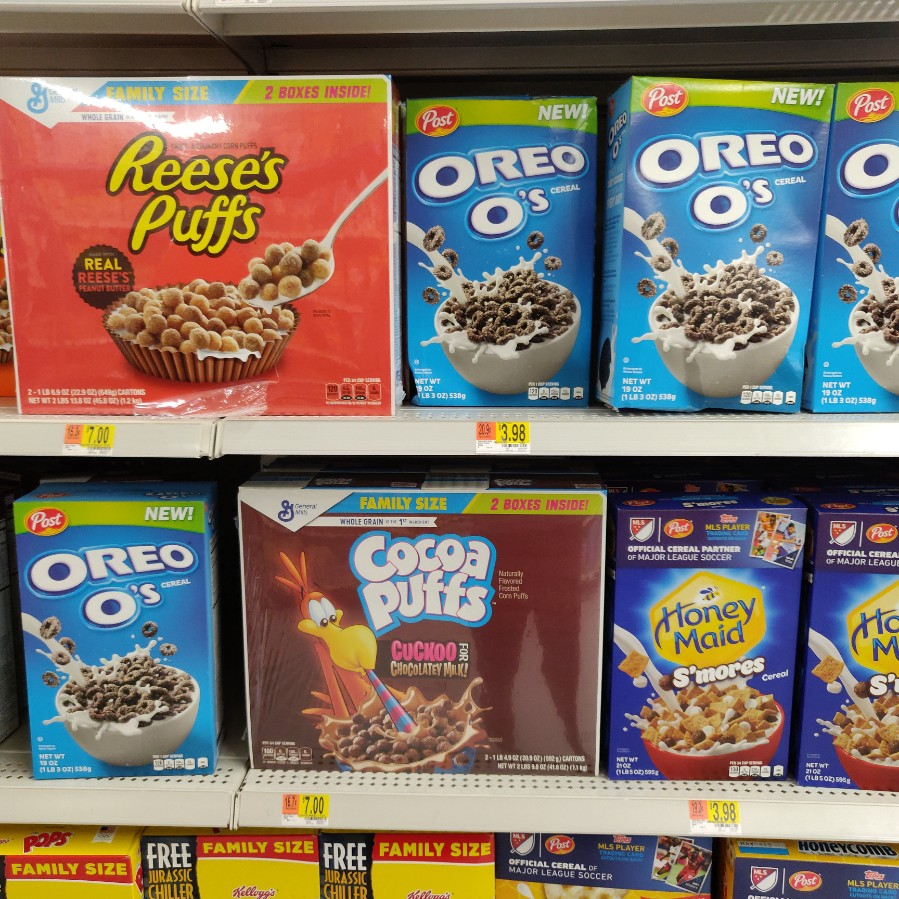Oreo-563424384: (622, 78, 825, 416), (398, 94, 610, 413), (17, 497, 229, 788), (834, 76, 894, 420)
